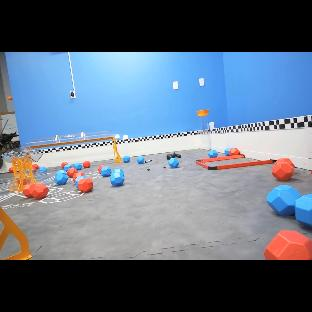V5_BLUE: (266, 185, 312, 227), (100, 167, 125, 186), (54, 164, 72, 185), (168, 158, 179, 168), (208, 150, 217, 158), (136, 156, 144, 164), (73, 163, 82, 170), (224, 148, 231, 156), (123, 156, 130, 163)
V5_RED: (264, 230, 312, 260), (22, 181, 49, 200), (272, 158, 294, 181), (63, 165, 84, 182), (78, 180, 93, 193), (31, 163, 40, 172), (229, 148, 240, 155), (98, 165, 106, 174), (2, 174, 8, 182), (78, 164, 85, 170), (56, 166, 63, 170), (12, 185, 16, 191), (311, 170, 312, 175)
